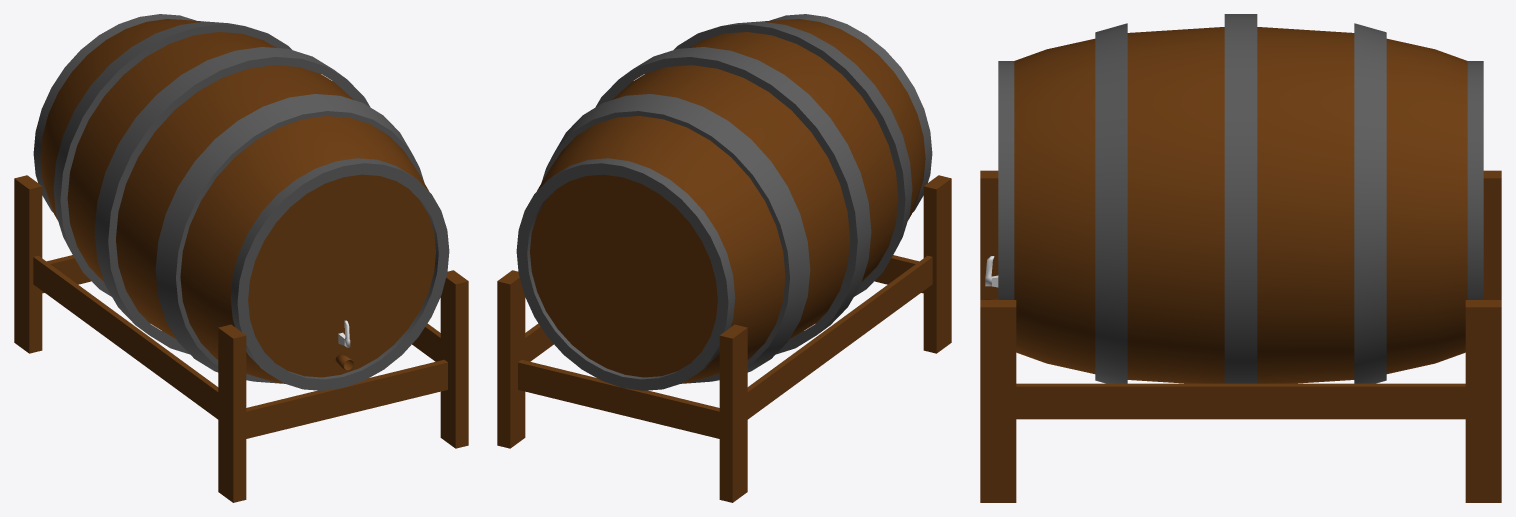
File: Big_Beer_Barrel.fbx
The picture shows the model from 3 angles, left to right: view 1: azimuth 30°, elevation 25°; view 2: azimuth 150°, elevation 25°; view 3: azimuth 270°, elevation 25°; orthographic projection. The views are drawn at different scales.
Parts seen in each view (by area): view 1: Circle, Cube.006; view 2: Circle, Cube.006; view 3: Circle, Cube.006.
Boxes of the visible parts, x1=… form: Circle: x1=33, y1=14, x2=449, y2=390; Cube.006: x1=14, y1=175, x2=468, y2=502; Circle: x1=516, y1=14, x2=932, y2=390; Cube.006: x1=497, y1=175, x2=951, y2=502; Circle: x1=998, y1=14, x2=1483, y2=383; Cube.006: x1=980, y1=170, x2=1501, y2=502.
Size of the model in its own units: 290 by 214 by 247.
